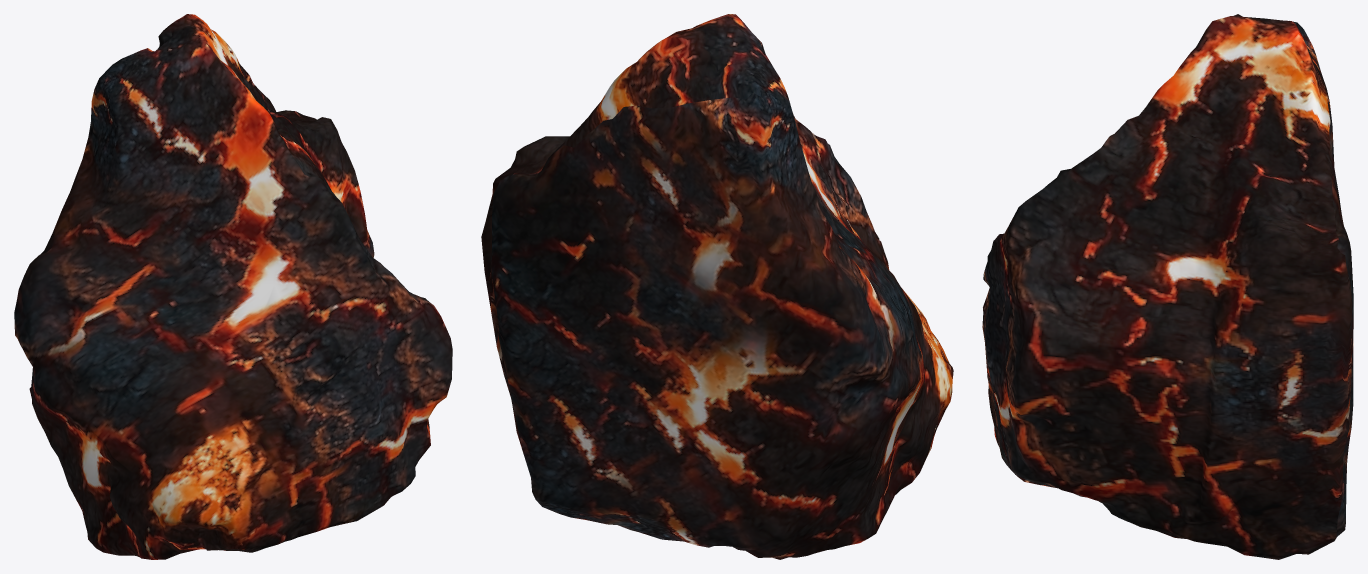
File: rock.obj
3 views of the same model, side by side, from view 1: azimuth 30°, elevation 25°; view 2: azimuth 150°, elevation 25°; view 3: azimuth 270°, elevation 25° (orthographic). The views are drawn at different scales.
Visible parts, largest first — view 1: Cliff_Rock_2_Model; view 2: Cliff_Rock_2_Model; view 3: Cliff_Rock_2_Model.
Part boxes in pixels (x1,y1,x2,y2): Cliff_Rock_2_Model: (14, 14, 452, 559); Cliff_Rock_2_Model: (481, 14, 953, 559); Cliff_Rock_2_Model: (982, 14, 1353, 559).
Size of the model in its own units: 77.37 by 104 by 71.48.
